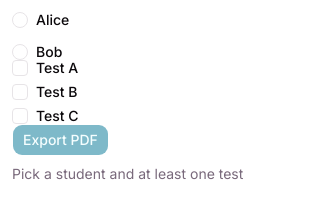
it: results-report export view › hints why Export PDF is disabled until a student and a test are picked
The image size is (332, 199).
Expected: the text "Pick a student and at least one test" is shown, [12,165,243,182]
# When the admin picks a student and a test, the hint disappears.
Click the radio button named "Alice" next to "Alice" at x=20, y=20, box [12,12,28,28]
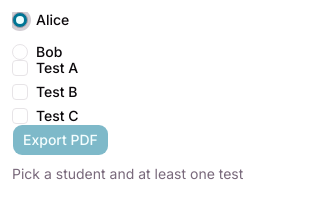
Click the checkbox named "Test A" next to "Test A" at x=20, y=68, box [12,60,28,76]
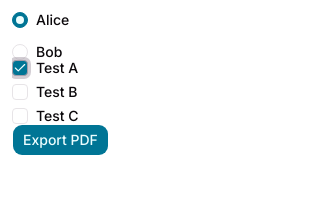
Expected: the text "Pick a student and at least one test" is gone
